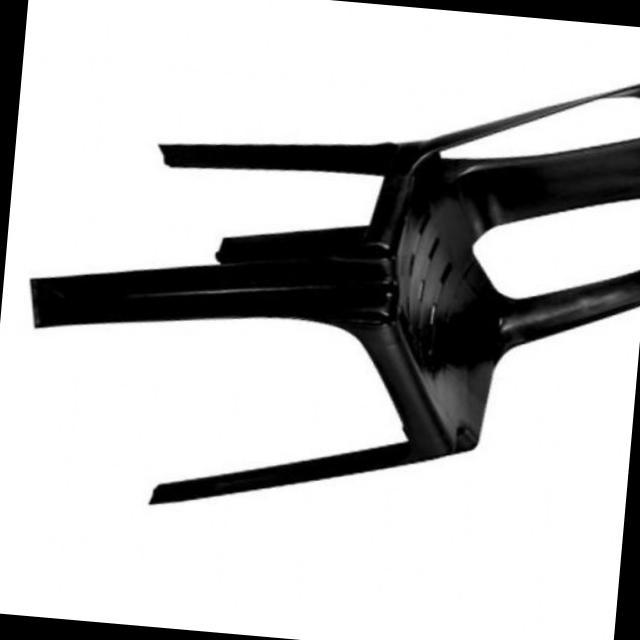chair: (9, 15, 640, 547)
